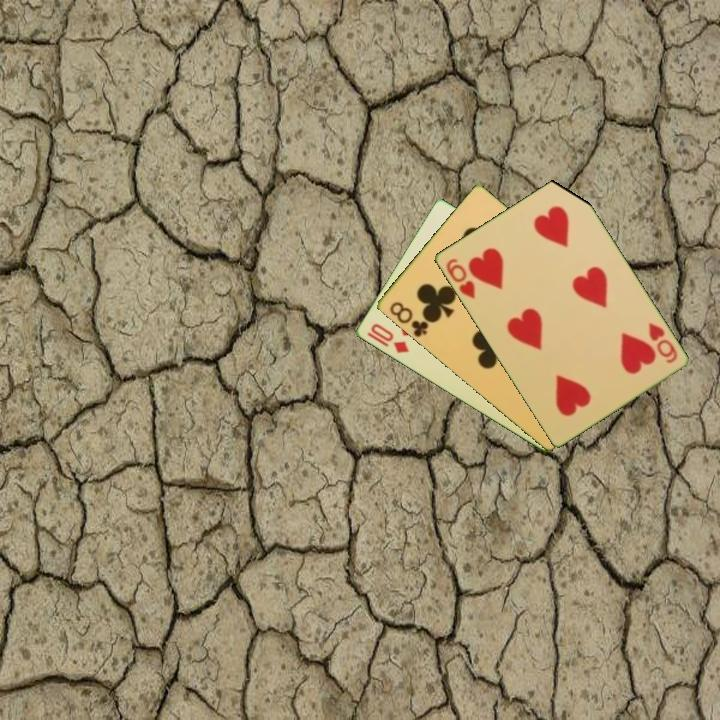10d: (367, 320, 412, 356)
6h: (442, 255, 478, 302), (644, 319, 680, 366)
8c: (385, 298, 433, 340)
